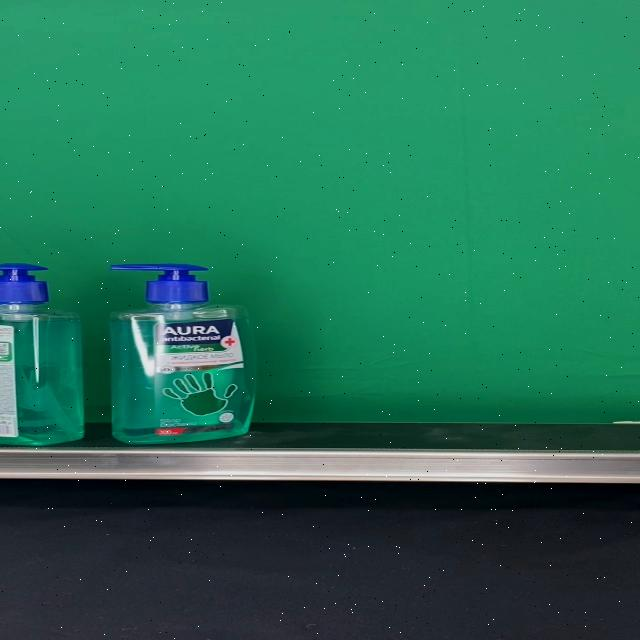Bottle: (108, 262, 257, 444)
Cap: (109, 263, 206, 305)
